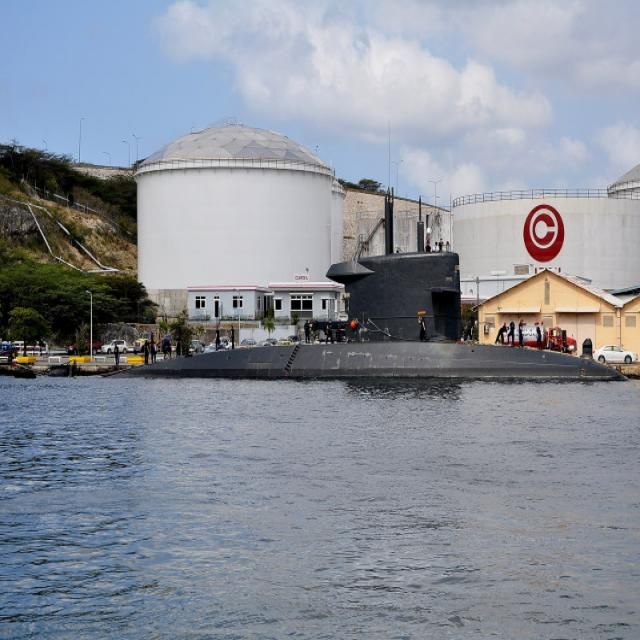submarine: (106, 250, 630, 386)
